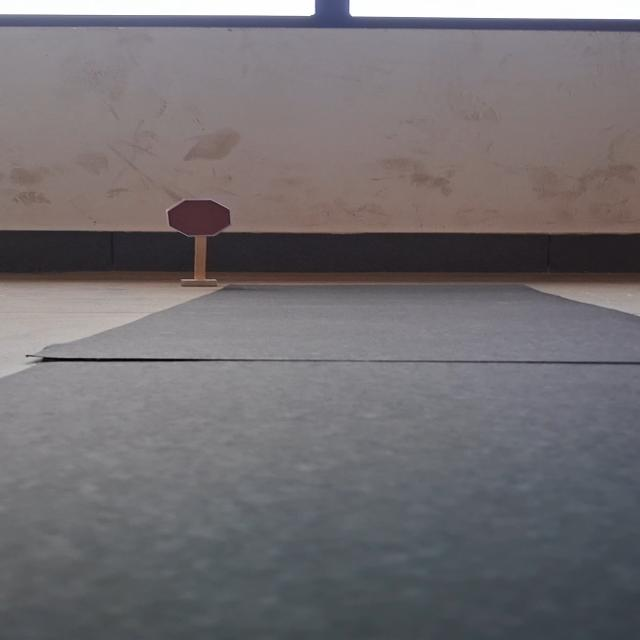Stop: (166, 198, 232, 238)
